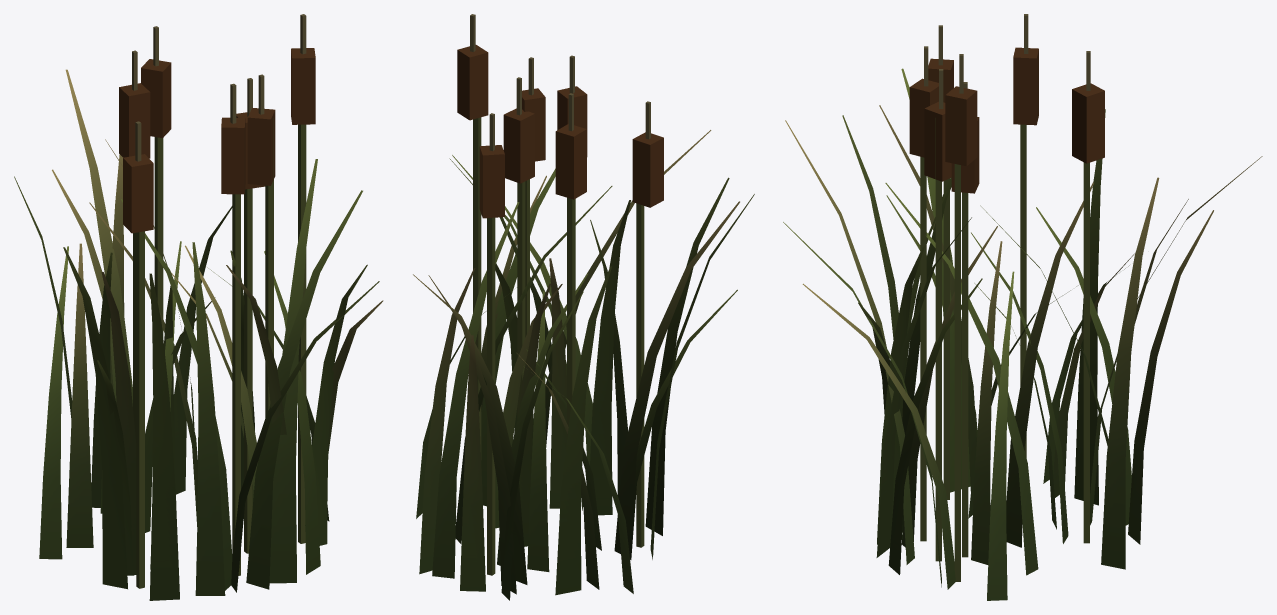
File: fen_cattails_01.glb
The picture shows the model from 3 angles, left to right: view 1: azimuth 30°, elevation 25°; view 2: azimuth 150°, elevation 25°; view 3: azimuth 270°, elevation 25°; orthographic projection. The views are drawn at different scales.
Parts seen in each view (by area): view 1: fen_cattails_01; view 2: fen_cattails_01; view 3: fen_cattails_01.
Part boxes in pixels (x1,y1,x2,y2): fen_cattails_01: [14, 14, 383, 600]; fen_cattails_01: [413, 14, 754, 600]; fen_cattails_01: [783, 14, 1262, 600].
Bounding box in the file's own units: 0.6178 × 1 × 0.8246.
